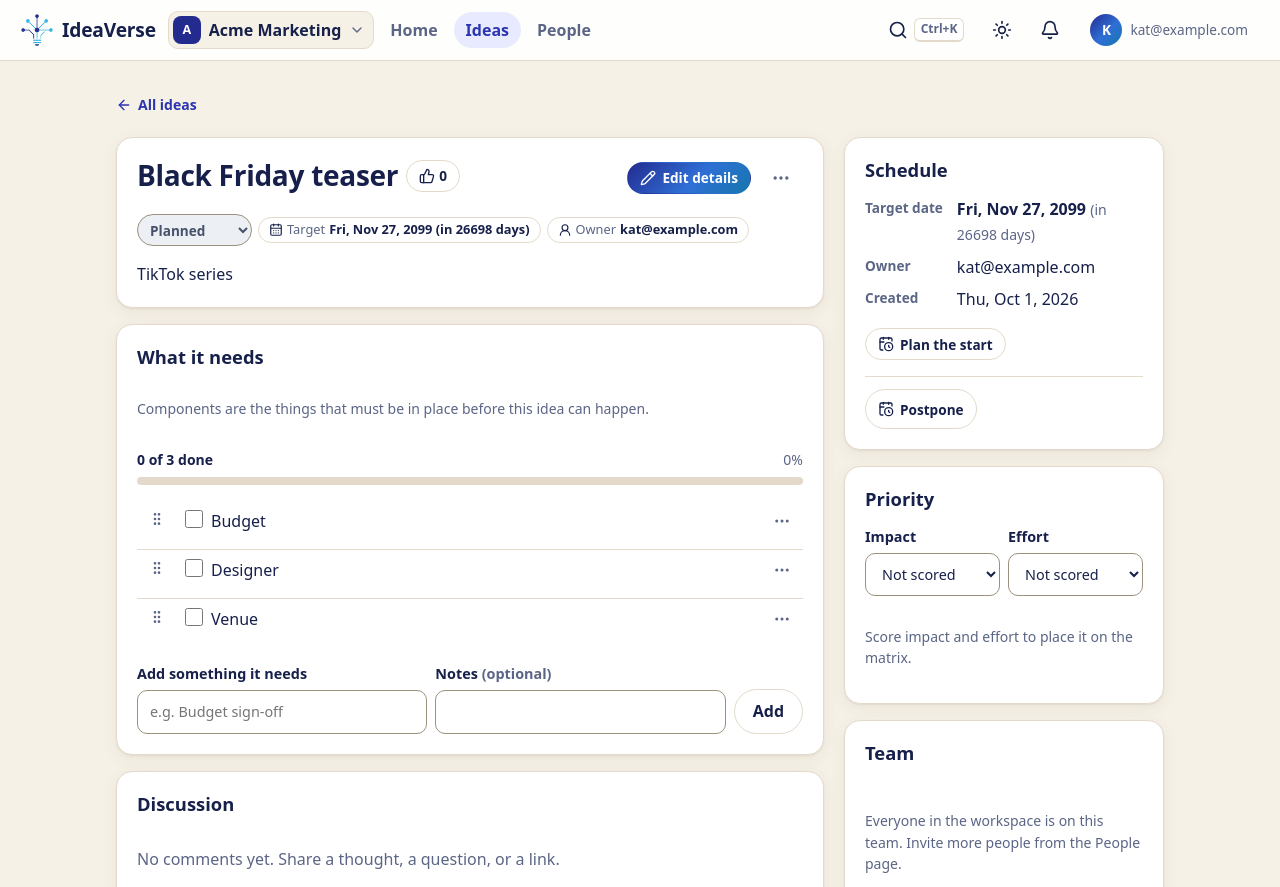
Renaming a component in place › keeps the field open when the title is refused
Step 1. Click the button with aria-label "Rename Budget" → (238, 522), box [207,509,270,534]
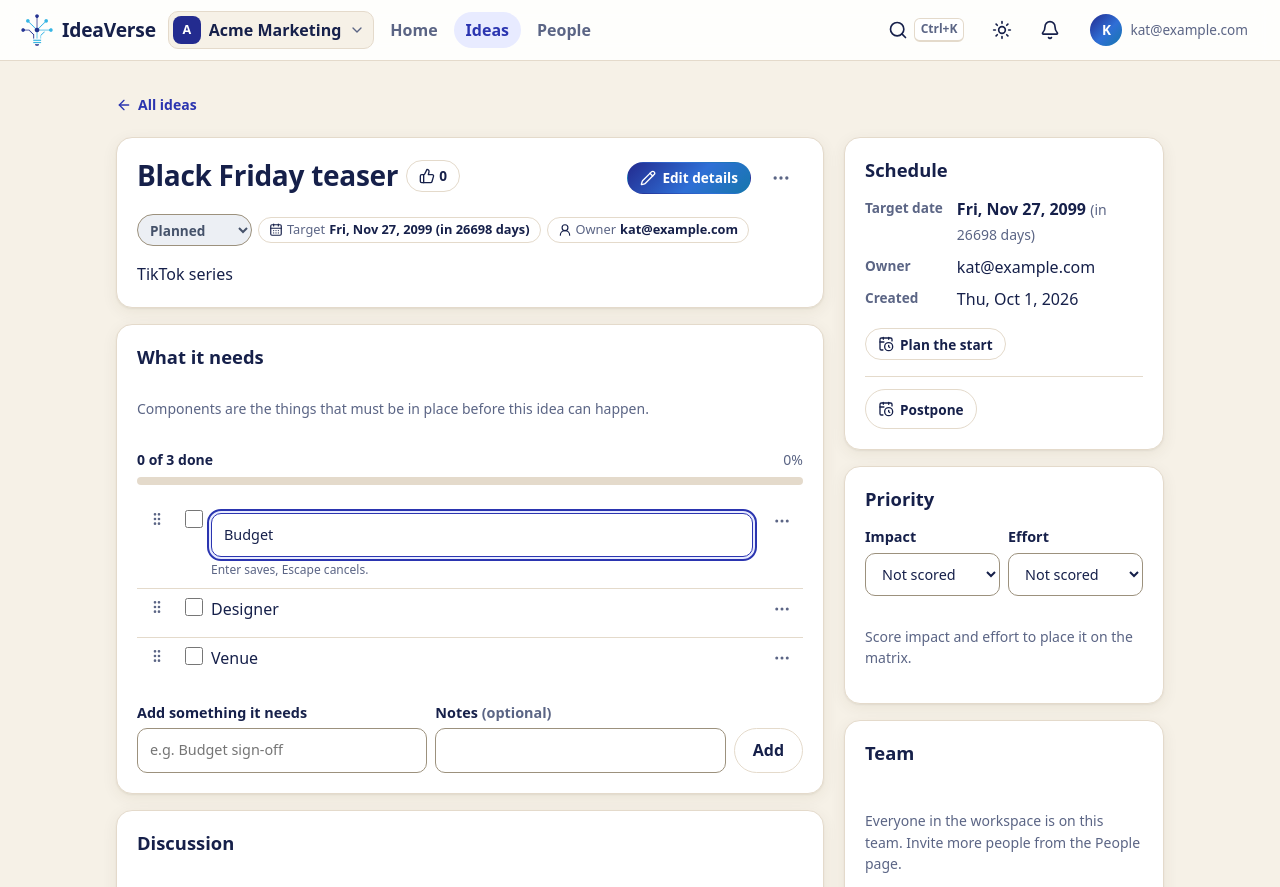
Step 2. Type " and more" into the field named "Title" → (482, 535), box [211,513,753,558]
Then press Enter
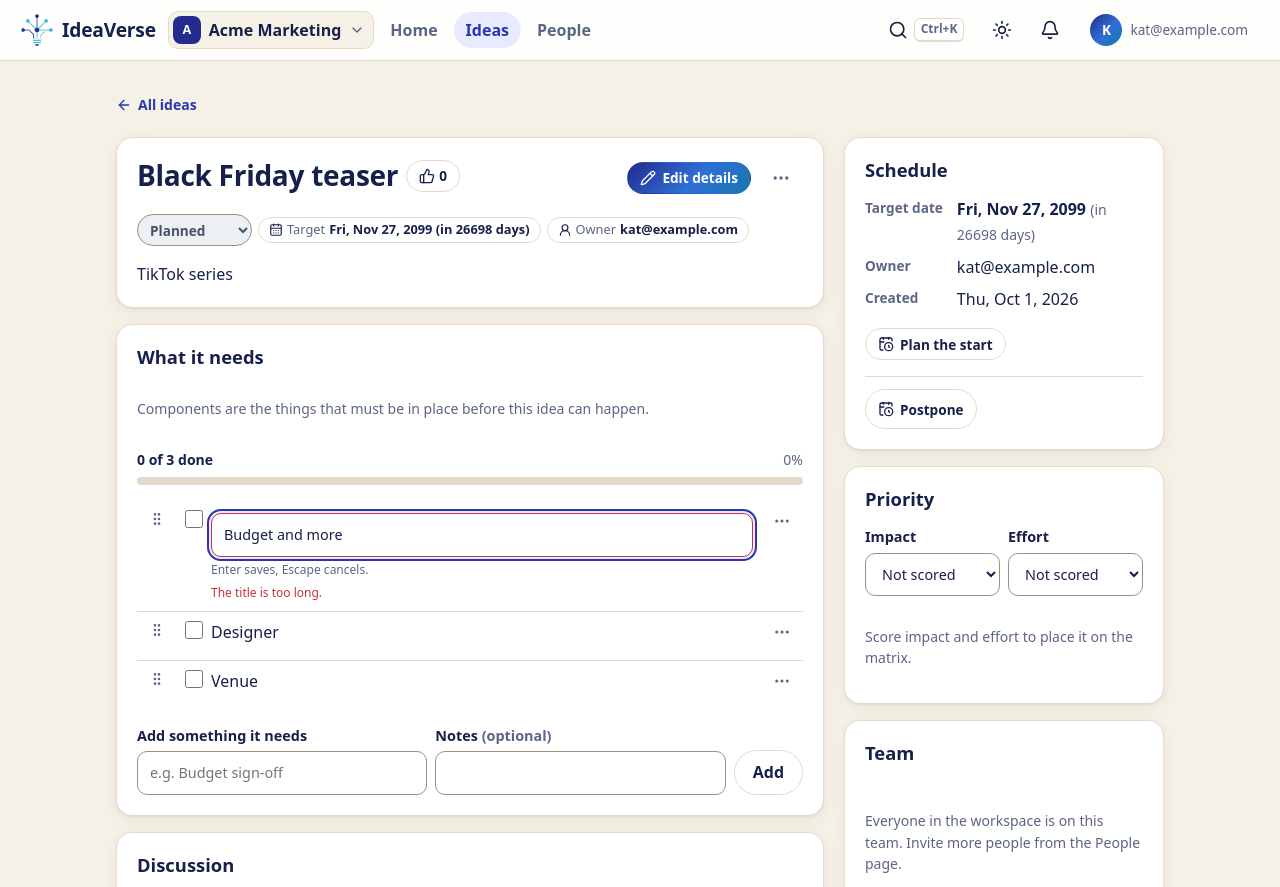
expect the form named "Rename Budget" is shown: met, box [211,509,753,603]
expect the text "The title is too long." is shown: met, box [211,584,322,601]
